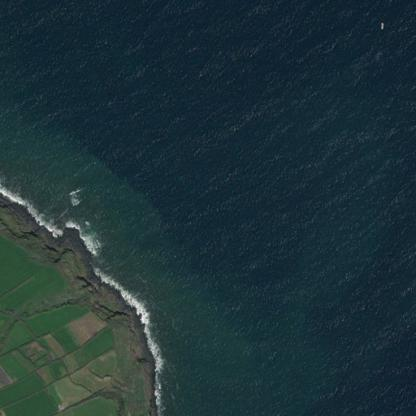ship: (380, 22, 383, 29)
